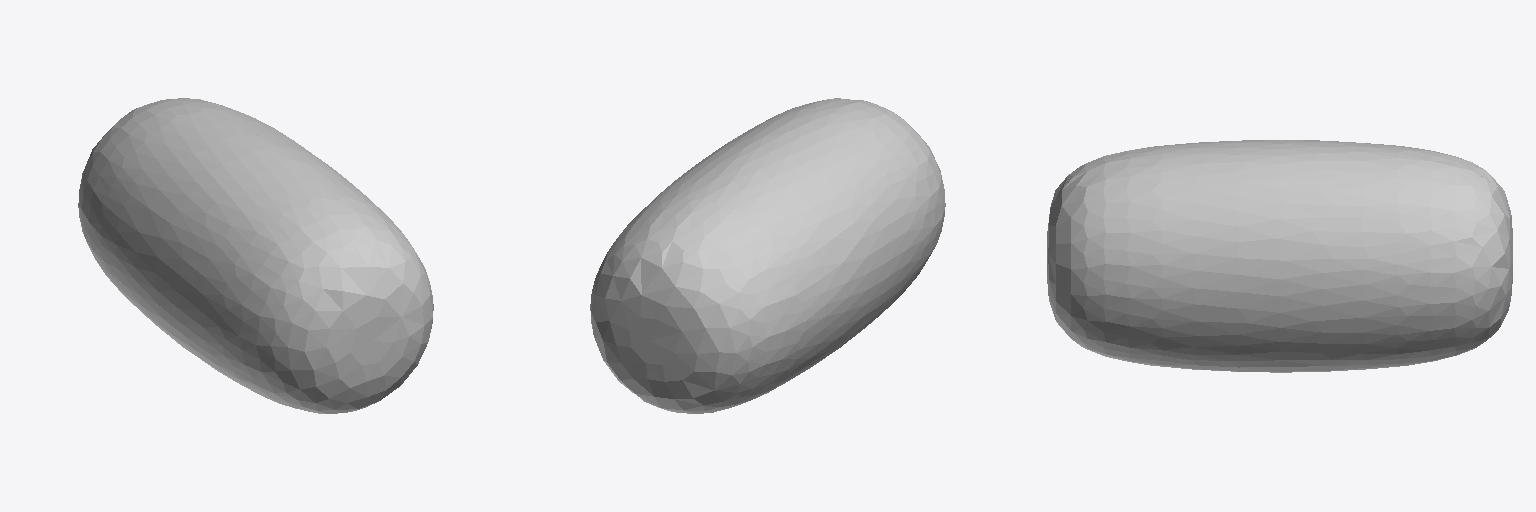
The model's file is snake1.obj.
The picture shows the model from 3 angles: view 1: azimuth 30°, elevation 25°; view 2: azimuth 150°, elevation 25°; view 3: azimuth 270°, elevation 25°; orthographic projection.
Bounding box in the file's own units: 0.7975 × 0.7985 × 1.6.